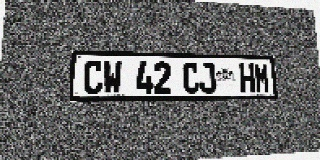2: (154, 62, 171, 94)
4: (136, 61, 154, 94)
C: (83, 60, 103, 95), (183, 62, 200, 94)
H: (239, 63, 255, 93)
J: (199, 62, 216, 94)
M: (254, 63, 270, 93)
W: (103, 61, 122, 94)
